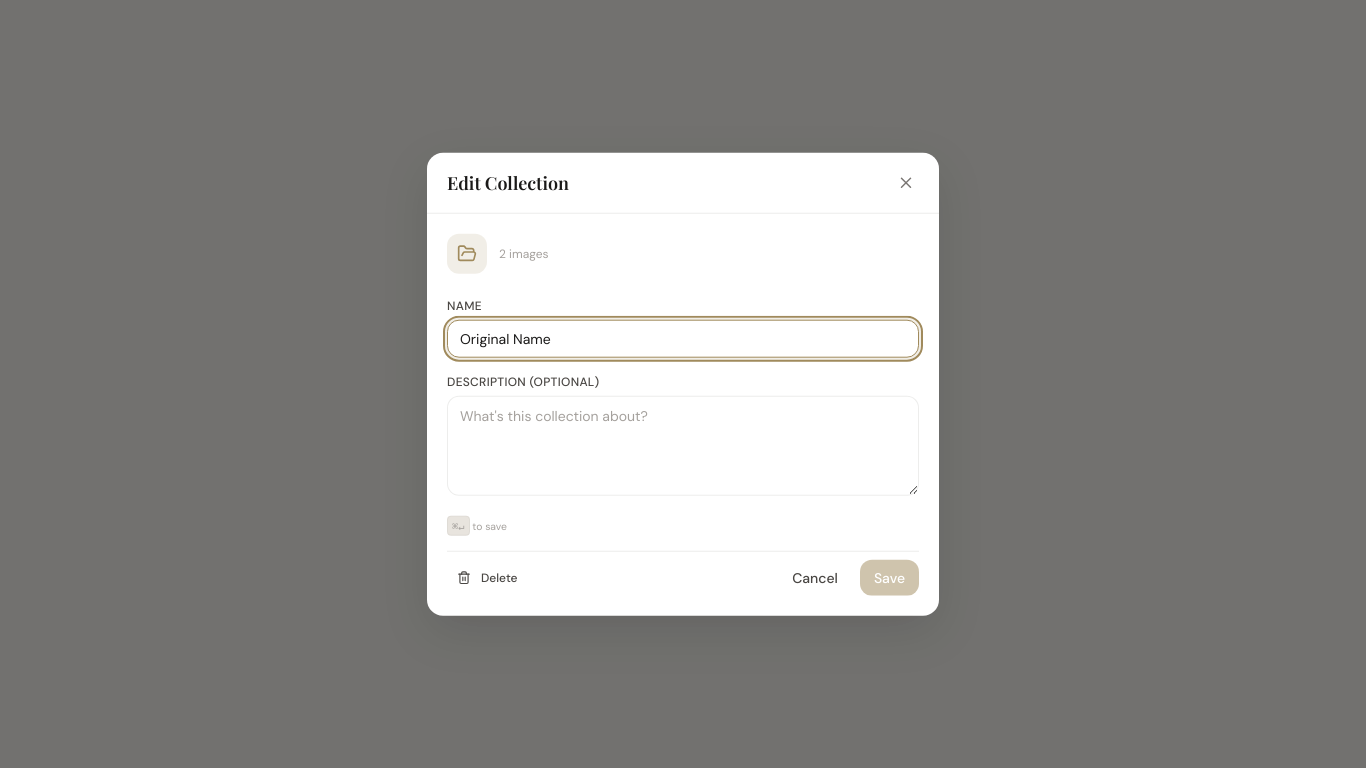
Test: CollectionEditModal › edit mode › should enable Save button when changes are made
Replace the text in the field labelled "Name" with "Updated Name" at coordinates (683, 339), box x1=447 y1=320 x2=919 y2=358
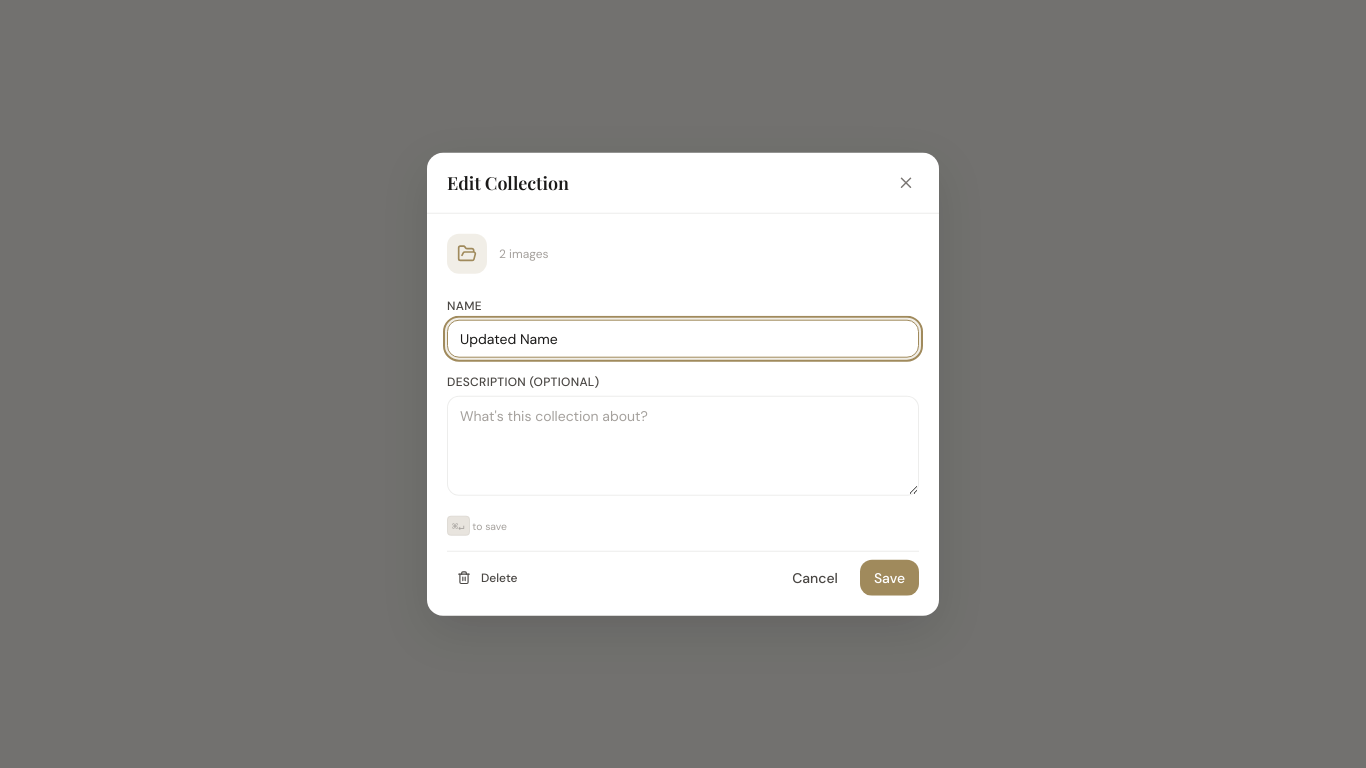
Now the button "Save" is enabled, box x1=860 y1=559 x2=919 y2=595
